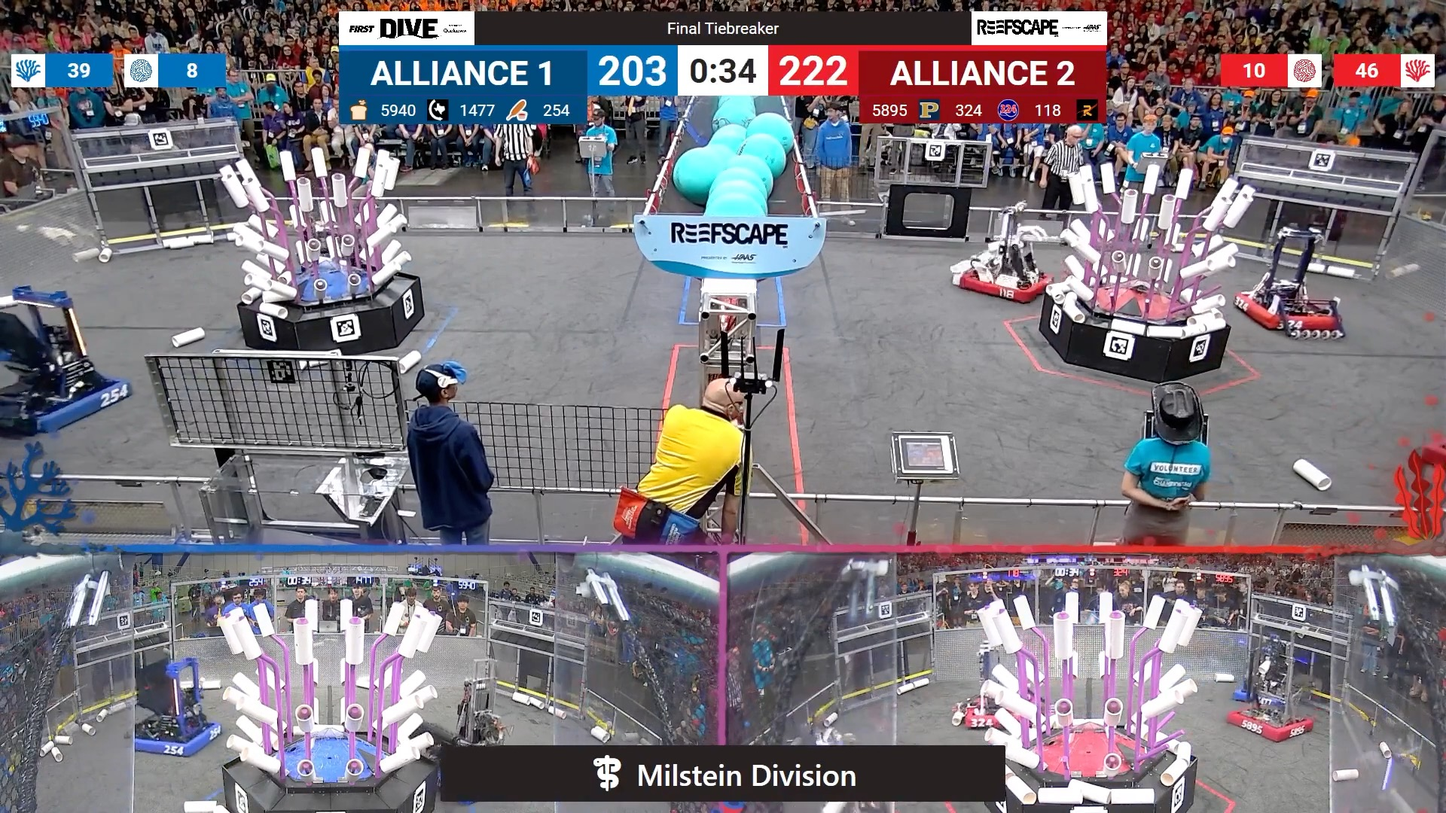bumpers: (0, 365, 140, 437), (1225, 289, 1348, 343), (124, 715, 226, 764), (952, 262, 1058, 307), (1219, 704, 1319, 743), (960, 697, 1029, 737)
